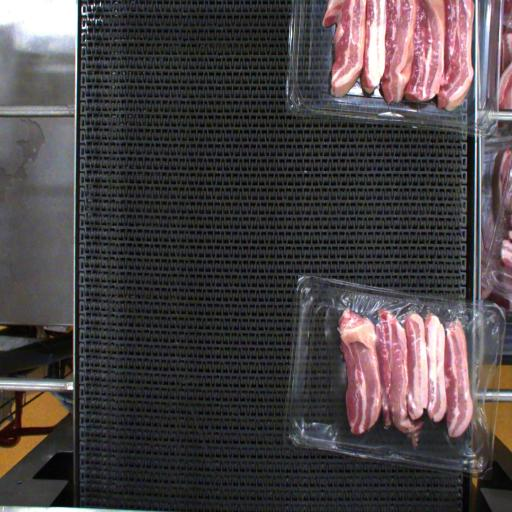unsealed: (304, 286, 492, 459)
